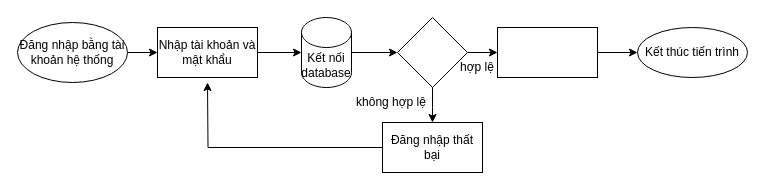
This 765x190 diagram has some shape labels left out. The shapes that lost their labels are listed below. From the top down, each one's centre as x and y in pixels, then its label:
point 432,52: Kiểm tra hợp lệ
point 547,52: Đăng nhập thành công
